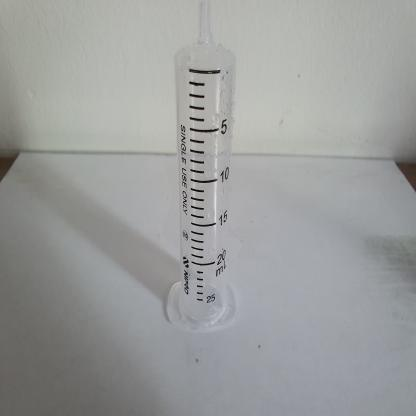wet: (166, 0, 238, 330)
